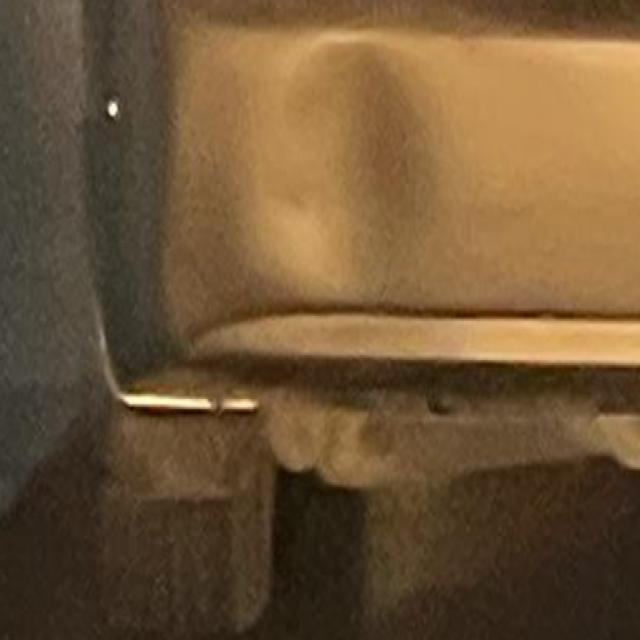dents: (263, 36, 443, 294)
